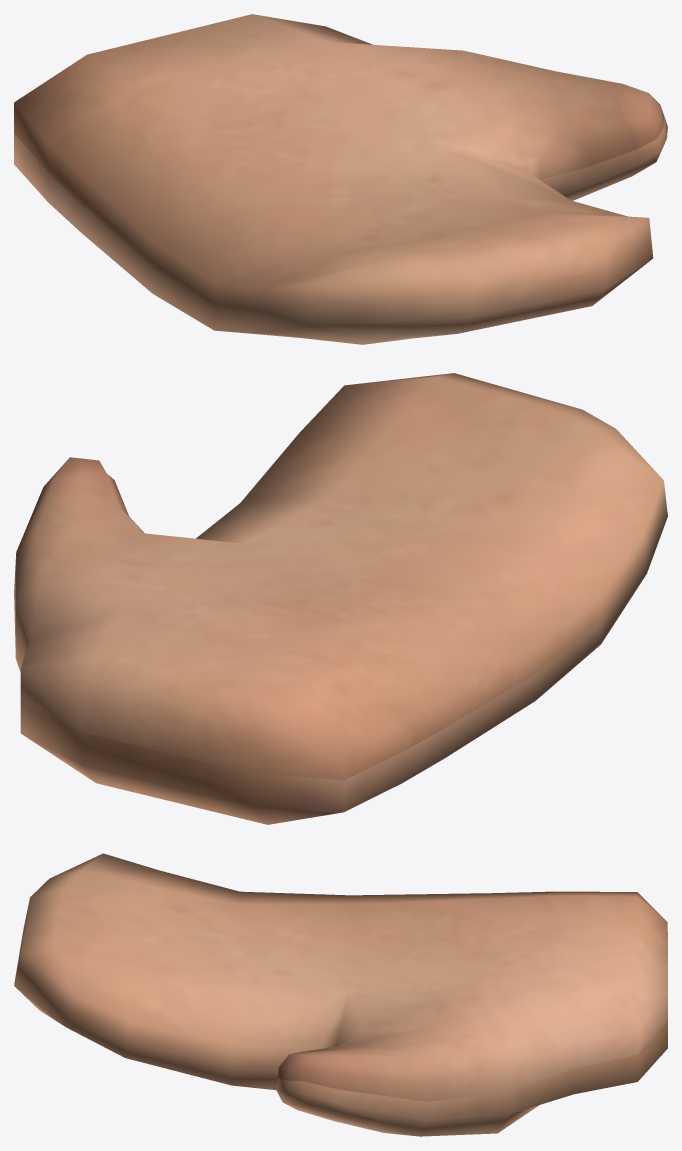
Rendered from SimpleHand.obj.
The picture shows the model from 3 angles, top to bottom: view 1: azimuth 30°, elevation 25°; view 2: azimuth 150°, elevation 25°; view 3: azimuth 270°, elevation 25°; orthographic projection. The views are drawn at different scales.
Visible parts, largest first — view 1: Hand_Mesh; view 2: Hand_Mesh; view 3: Hand_Mesh.
Part boxes in pixels (box(x1,y1,x2,y2)): Hand_Mesh: box(14, 14, 667, 344); Hand_Mesh: box(14, 373, 667, 824); Hand_Mesh: box(14, 853, 667, 1136).
Size of the model in its own units: 0.3653 by 0.115 by 0.4765.
